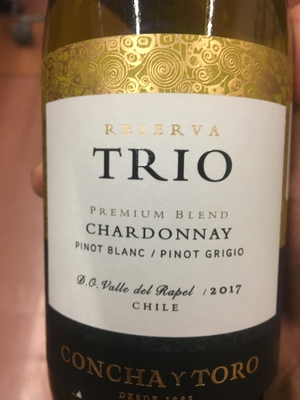trio chardonnay: (41, 2, 293, 399)
